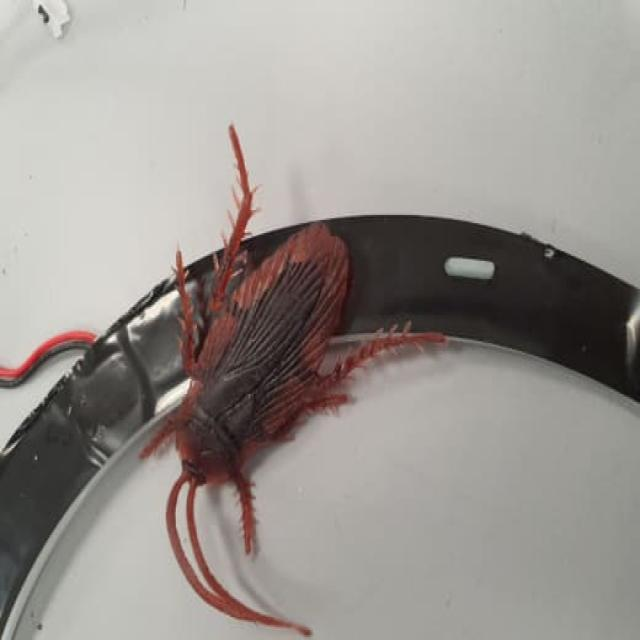Cockroach: (124, 121, 458, 640)
